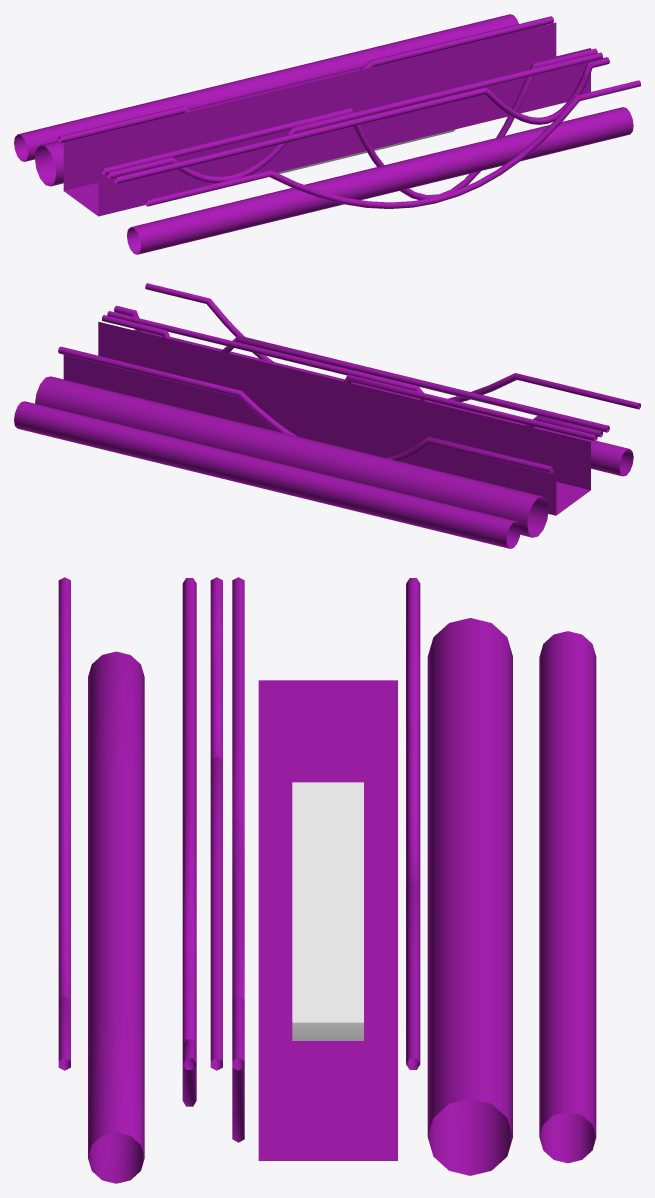
File: SM_CeilingPipes_Light_01.fbx
3 views of the same model, one above another, from view 1: azimuth 30°, elevation 25°; view 2: azimuth 150°, elevation 25°; view 3: azimuth 270°, elevation 25° (orthographic). The views are drawn at different scales.
Parts seen in each view (by area): view 1: SM_CeilingPipes_Light_0I; view 2: SM_CeilingPipes_Light_0I; view 3: SM_CeilingPipes_Light_0I.
Boxes of the visible parts, <box> form: SM_CeilingPipes_Light_0I: <box>14,14,640,254</box>; SM_CeilingPipes_Light_0I: <box>14,283,640,548</box>; SM_CeilingPipes_Light_0I: <box>58,577,596,1183</box>.
Size of the model in its own units: 400 by 88.64 by 189.
